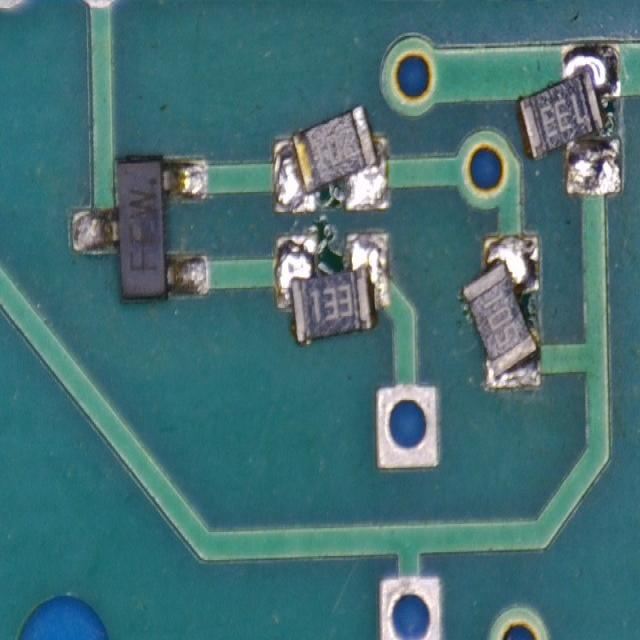Incorrect_installation: (518, 41, 622, 193), (273, 232, 389, 343), (273, 104, 389, 214), (462, 234, 541, 388)
